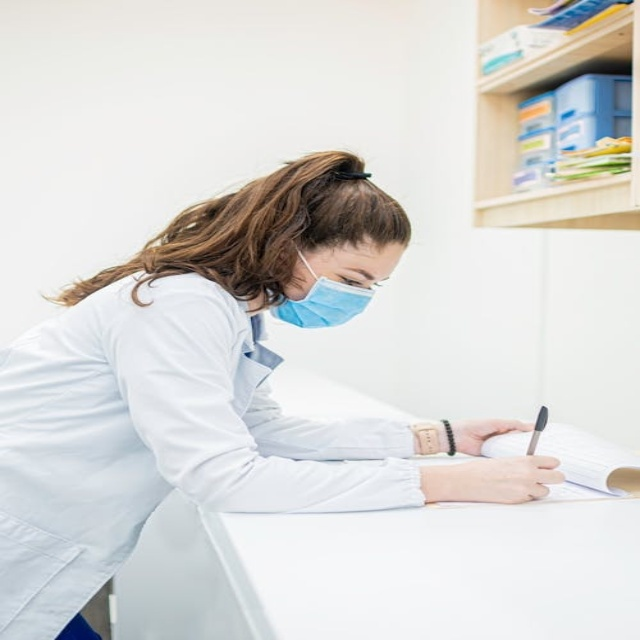Mascara: (270, 244, 377, 328)
Sin_gafas: (330, 262, 401, 289)
Sin_guantes: (431, 455, 567, 505), (430, 417, 541, 458)
